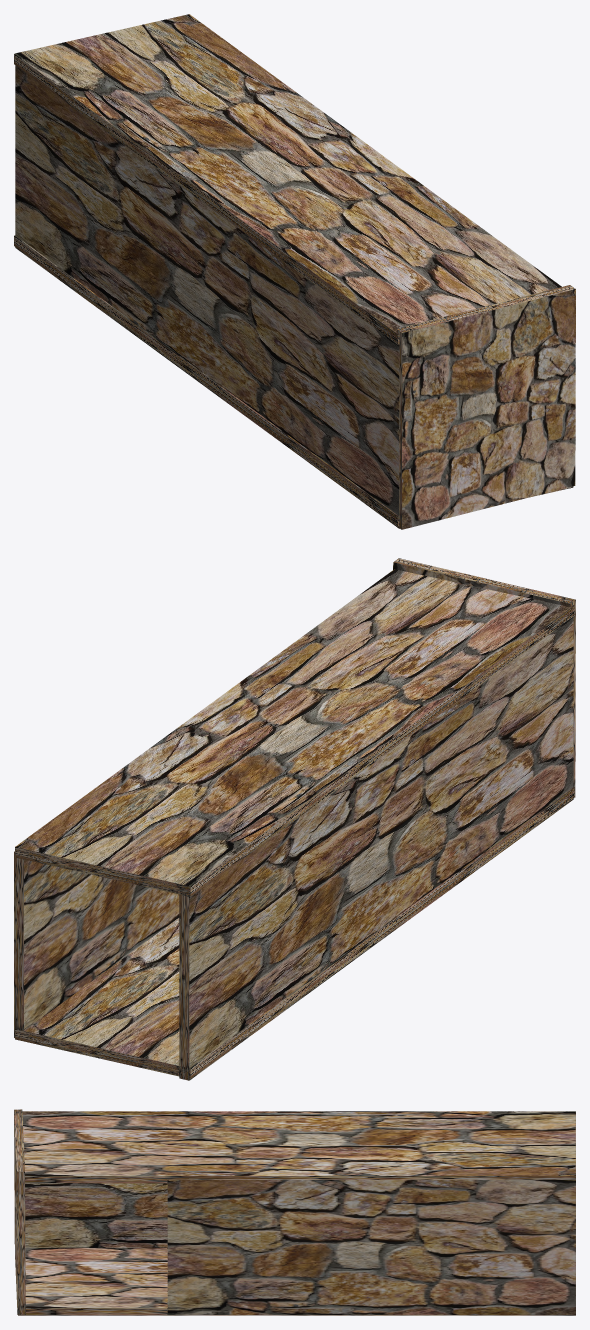
The model's file is hallway1.FBX.
The picture shows the model from 3 angles, top to bottom: view 1: azimuth 30°, elevation 25°; view 2: azimuth 150°, elevation 25°; view 3: azimuth 270°, elevation 25°; orthographic projection. The views are drawn at different scales.
Parts seen in each view (by area): view 1: Box013, Box015, Box017, Box016; view 2: Box013, Box015, Box016, Box011, Box017; view 3: Box011, Box013, Box016, Box015, Box017.
Boxes of the visible parts, x1,y1,x2,y2 form: Box013: (14, 14, 561, 345); Box015: (15, 65, 399, 528); Box017: (396, 285, 575, 529); Box016: (14, 235, 573, 526); Box013: (15, 569, 574, 896); Box015: (179, 617, 573, 1080); Box016: (15, 787, 574, 1078); Box011: (14, 851, 179, 1037); Box017: (393, 558, 575, 797); Box011: (167, 1179, 575, 1314); Box013: (22, 1111, 575, 1183); Box016: (18, 1247, 575, 1315); Box015: (25, 1183, 167, 1247); Box017: (14, 1109, 25, 1314).
Size of the model in its own units: 1730 by 1857 by 6548.
2 materials, 2 textured.
